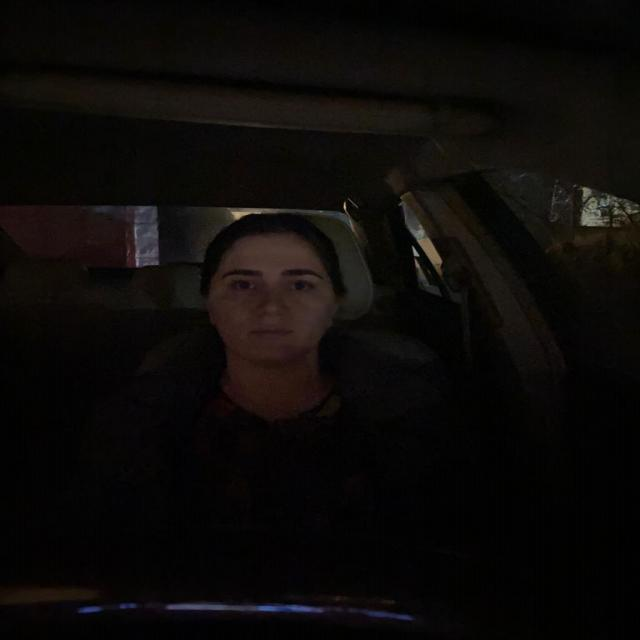person: (193, 211, 350, 371)
